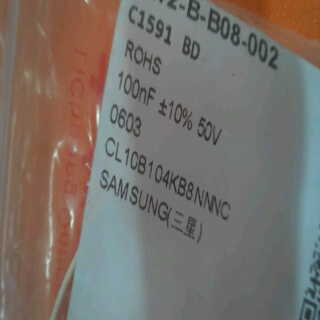100nF: (111, 68, 160, 112)
